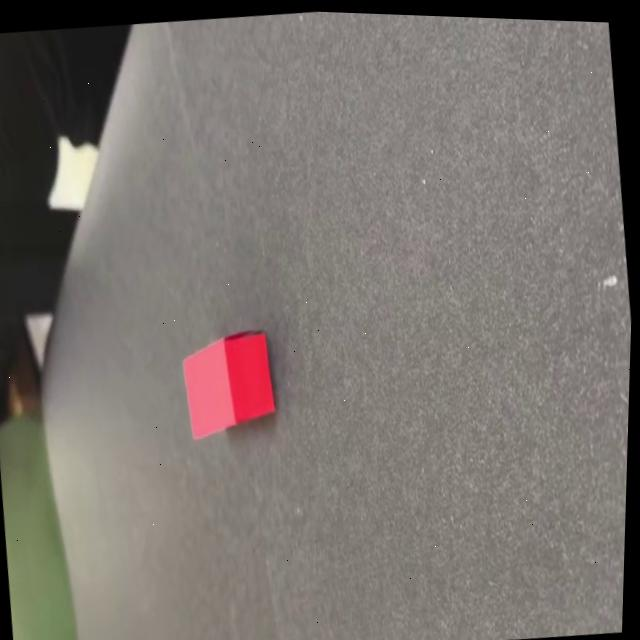red block: (176, 323, 280, 442)
